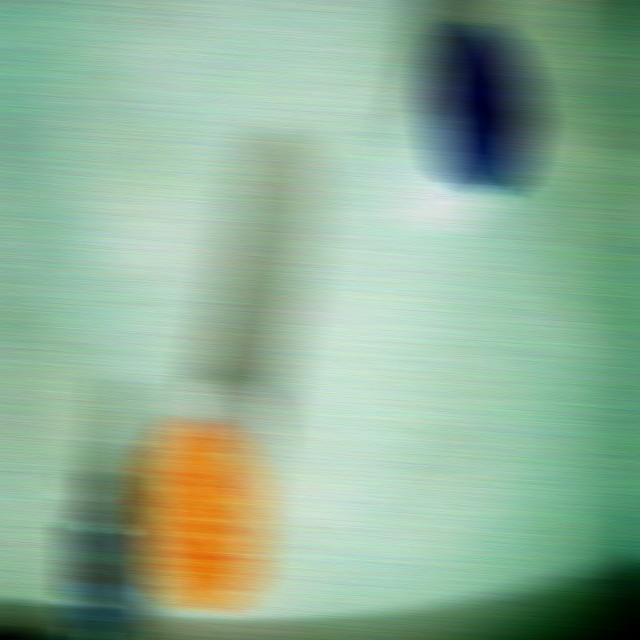blue: (428, 25, 535, 196)
yellow: (140, 437, 261, 611)
